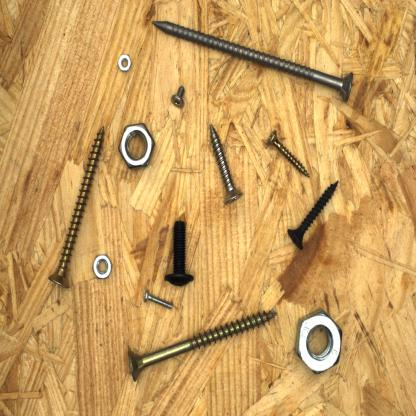screw: (148, 18, 356, 106), (126, 308, 280, 384), (45, 122, 107, 291), (284, 176, 342, 254), (206, 120, 245, 210), (264, 126, 314, 180), (140, 287, 176, 310), (169, 82, 187, 112)
